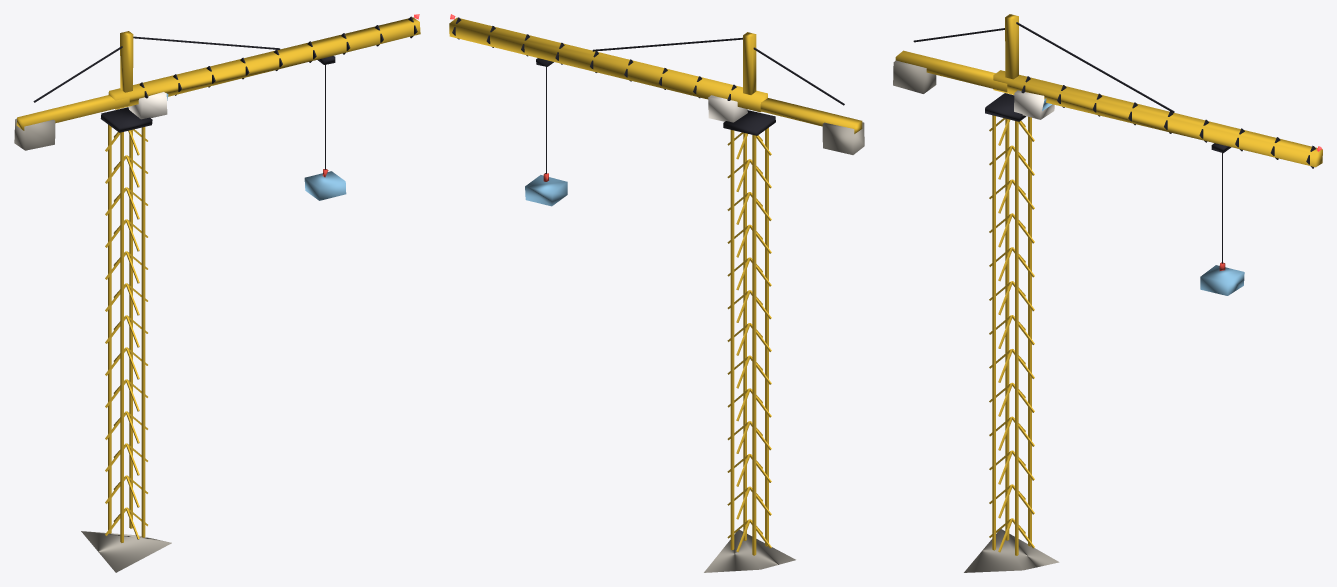
File: crane.glb
The picture shows the model from 3 angles, left to right: view 1: azimuth 30°, elevation 25°; view 2: azimuth 150°, elevation 25°; view 3: azimuth 330°, elevation 25°; orthographic projection. The views are drawn at different scales.
Visible parts, largest first — view 1: jib.010, crane.004; view 2: jib.010, crane.004; view 3: jib.010, crane.004.
Part boxes in pixels (left/top/right/bottom): jib.010: left=14, top=14, right=420, bottom=200; crane.004: left=81, top=124, right=171, bottom=572; jib.010: left=449, top=14, right=864, bottom=206; crane.004: left=704, top=127, right=795, bottom=572; jib.010: left=893, top=14, right=1322, bottom=295; crane.004: left=964, top=115, right=1059, bottom=572.
Size of the model in its own units: 26.12 by 32.54 by 3.98.
1 material, 1 textured.
